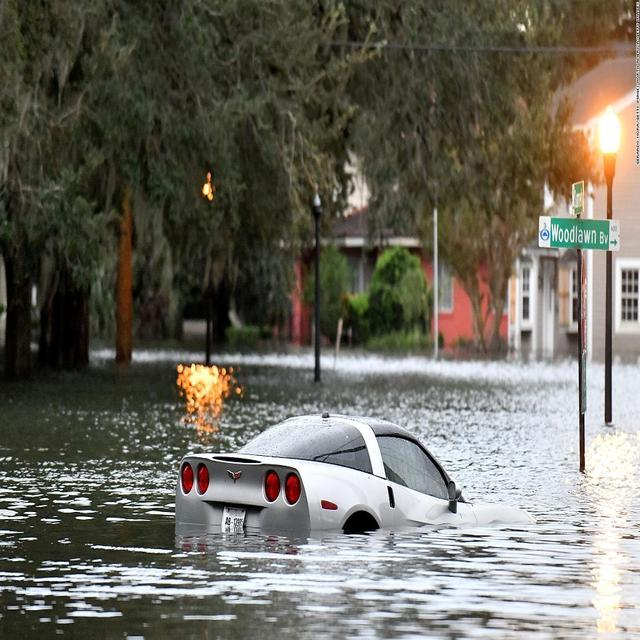Car-RiskLevel3: (169, 406, 539, 550)
